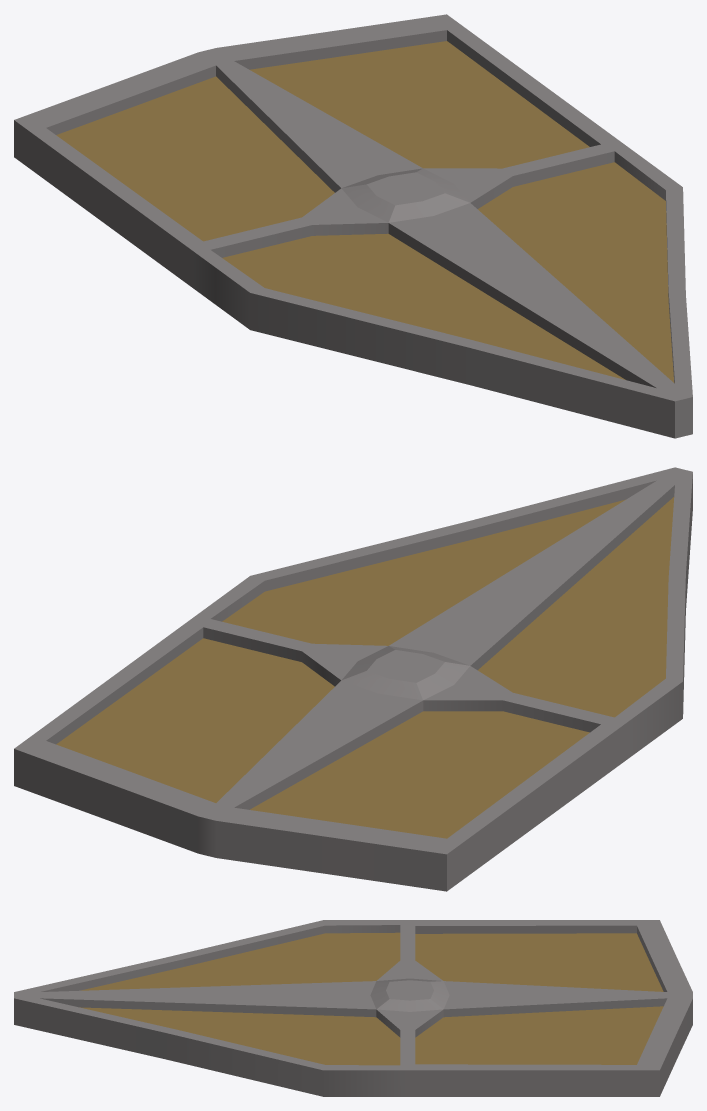
Rendered from mesh_sheild.fbx.
The picture shows the model from 3 angles, top to bottom: view 1: azimuth 30°, elevation 25°; view 2: azimuth 150°, elevation 25°; view 3: azimuth 270°, elevation 25°; orthographic projection. The views are drawn at different scales.
Parts seen in each view (by area): view 1: sheild; view 2: sheild; view 3: sheild.
Part boxes in pixels (x1,y1,x2,y2): sheild: (14, 14, 692, 438); sheild: (14, 467, 692, 891); sheild: (14, 920, 692, 1096).
Size of the model in its own units: 71.97 by 6.99 by 137.
Materials: 1 (1 with a texture image).
